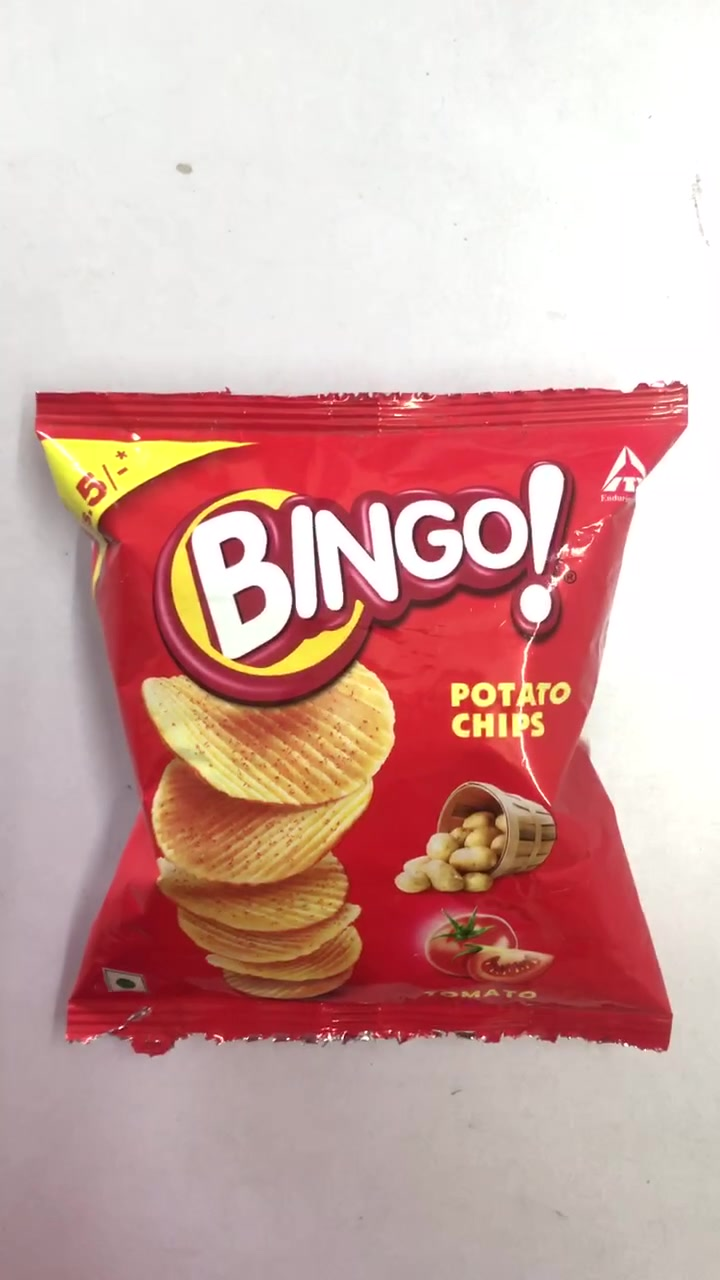Bingo: (39, 395, 664, 1045)
